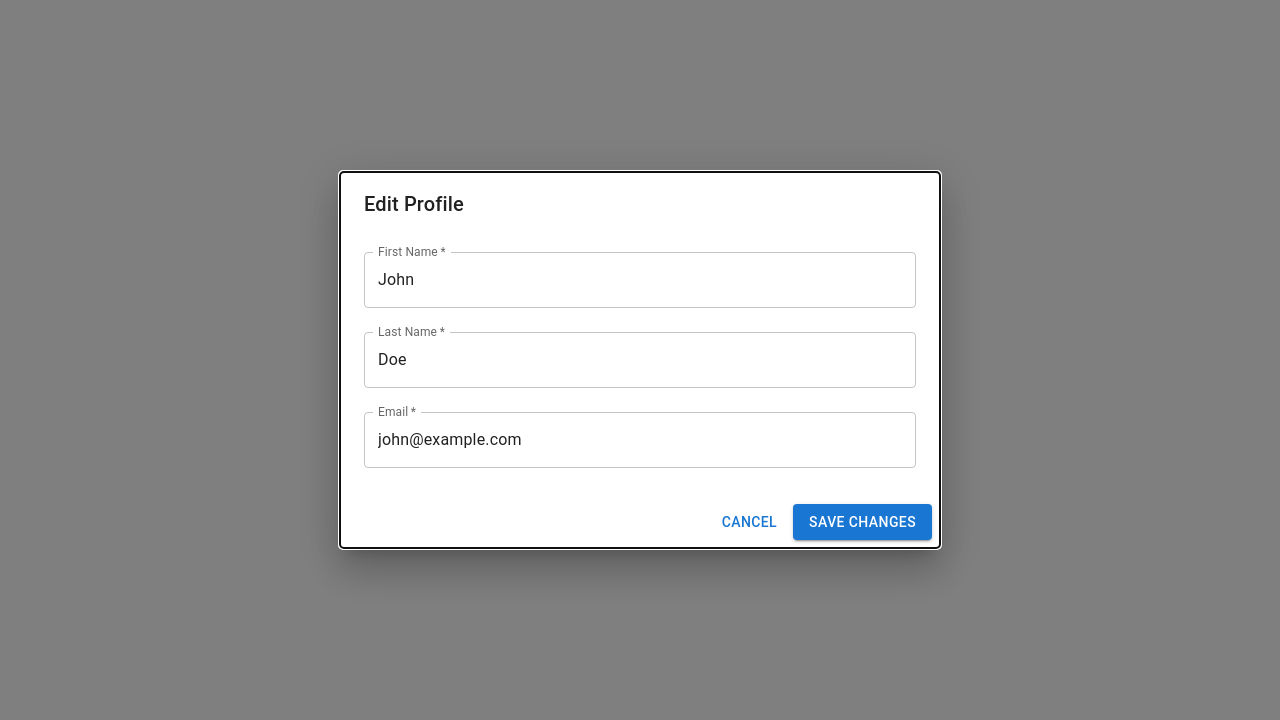
ProfileEditDialog › disables submit button while loading
This screenshot has width=1280, height=720.
Click the button "Save Changes": (863, 522) [793, 504, 932, 540]
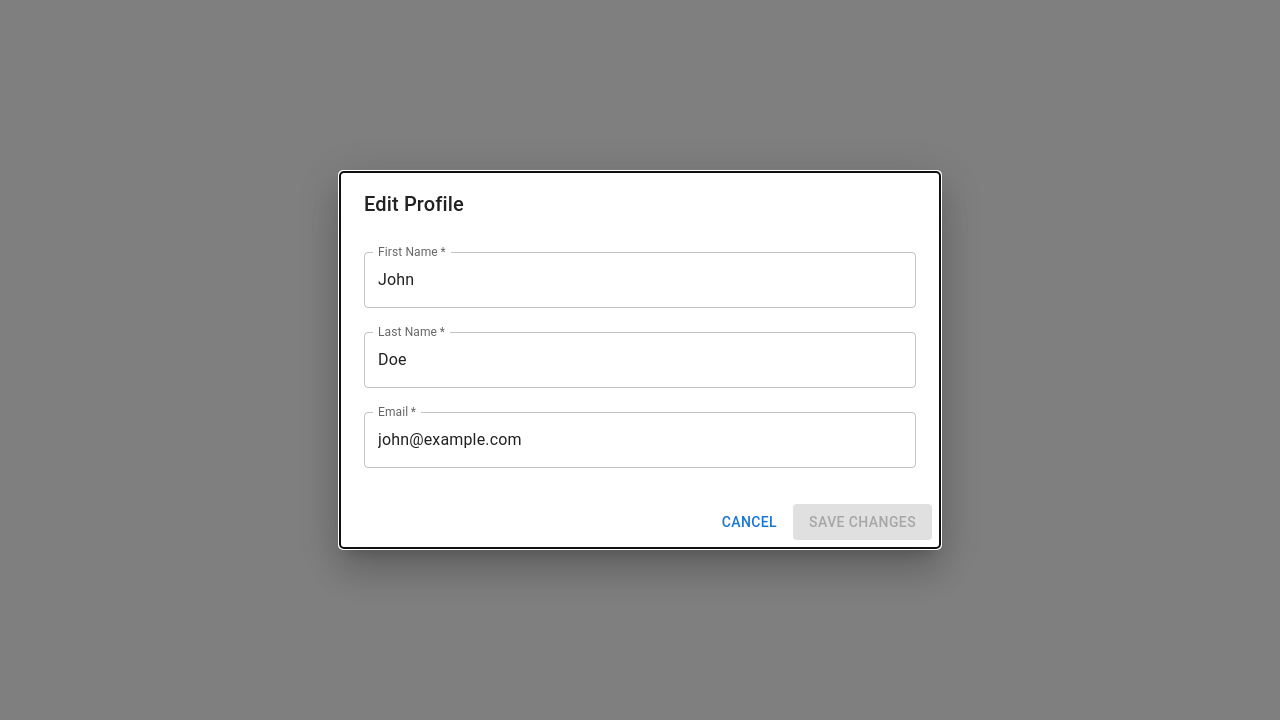
Result: the button "Save Changes" is disabled at [793, 504, 932, 540]
